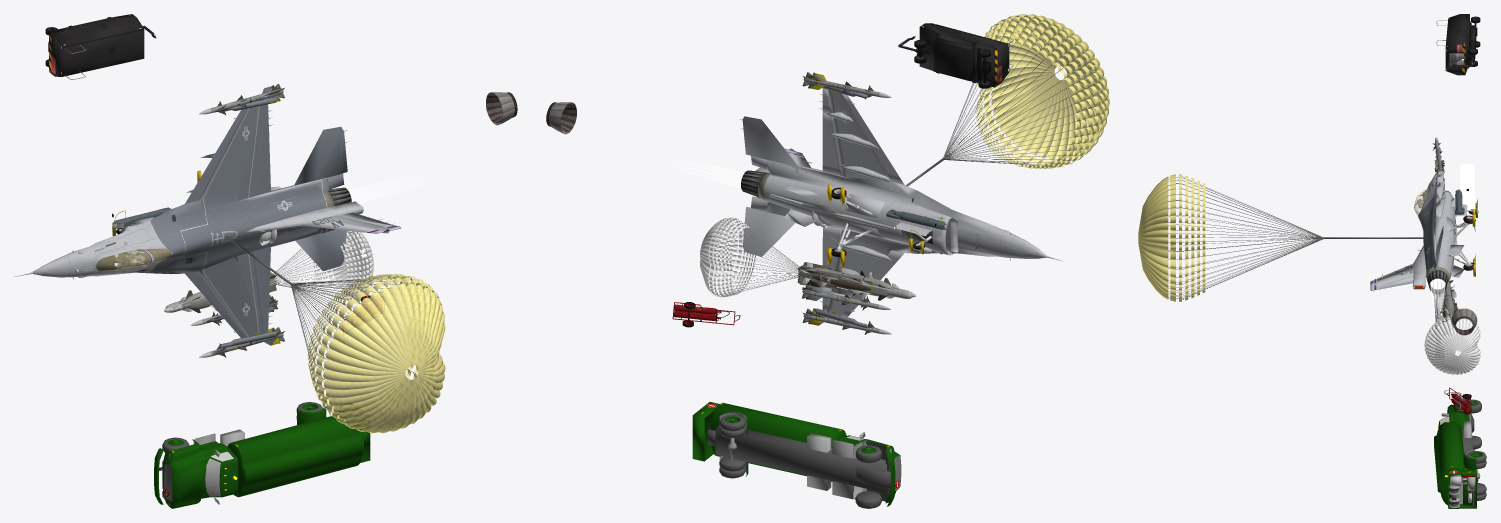
The picture shows the model from 3 angles, left to right: view 1: azimuth 30°, elevation 25°; view 2: azimuth 150°, elevation 25°; view 3: azimuth 270°, elevation 25°; orthographic projection. The views are drawn at different scales.
Parts seen in each view (by area): view 1: DragChute, RadarDomeTop, tank, GPU, cabin (×2), B61-7_Dragchute, RightUpperHorizonTail, LeftUpperHorizonTail, RightUpperFlap, ExternalFlame, RightUpperLef, CanopyForwardOutside (+6 smaller); view 2: DragChute, RadarDomeTop, frame, GPU, B61-7_Dragchute, tank, LeftLowerHorizonTail, cabin, RightLowerHorizonTail, equipment-box, wheels-back, extinguisher (+4 smaller); view 3: DragChute, B61-7_Dragchute, RadarDomeTop, GPU, tank, equipment, mount, equipment-box, Tail, ExternalFlame, extinguisher.
Boxes of the visible parts, left/top/right/bottom form: DragChute: left=226, top=236, right=445, bottom=433; RadarDomeTop: left=33, top=105, right=328, bottom=337; tank: left=227, top=414, right=363, bottom=497; GPU: left=45, top=14, right=156, bottom=79; cabin (×2): left=162, top=433, right=238, bottom=508; B61-7_Dragchute: left=272, top=230, right=373, bottom=300; RightUpperHorizonTail: left=294, top=126, right=347, bottom=184; LeftUpperHorizonTail: left=295, top=229, right=346, bottom=271; RightUpperFlap: left=252, top=128, right=270, bottom=196; ExternalFlame: left=348, top=174, right=425, bottom=203; RightUpperLef: left=185, top=108, right=247, bottom=203; CanopyForwardOutside: left=96, top=249, right=151, bottom=271; DragChute: left=906, top=14, right=1109, bottom=186; RadarDomeTop: left=764, top=90, right=1046, bottom=316; frame: left=707, top=425, right=890, bottom=492; GPU: left=898, top=23, right=1013, bottom=88; B61-7_Dragchute: left=700, top=217, right=800, bottom=297; tank: left=711, top=402, right=846, bottom=481; LeftLowerHorizonTail: left=743, top=207, right=795, bottom=256; cabin: left=832, top=435, right=901, bottom=503; RightLowerHorizonTail: left=742, top=116, right=798, bottom=166; equipment-box: left=692, top=402, right=719, bottom=461; wheels-back: left=719, top=415, right=745, bottom=478; extinguisher: left=672, top=302, right=740, bottom=327; DragChute: left=1138, top=174, right=1423, bottom=301; B61-7_Dragchute: left=1424, top=314, right=1480, bottom=374; RadarDomeTop: left=1414, top=171, right=1455, bottom=330; GPU: left=1436, top=14, right=1480, bottom=75; tank: left=1434, top=421, right=1465, bottom=505; equipment: left=1449, top=470, right=1475, bottom=508; mount: left=1460, top=164, right=1474, bottom=215; equipment-box: left=1448, top=469, right=1476, bottom=508; Tail: left=1370, top=263, right=1413, bottom=291; ExternalFlame: left=1430, top=278, right=1445, bottom=320; extinguisher: left=1444, top=387, right=1471, bottom=414.
Size of what is drawn, in the model's own units: 21.49 by 20.11 by 16.48.
321 materials, 225 textured.
